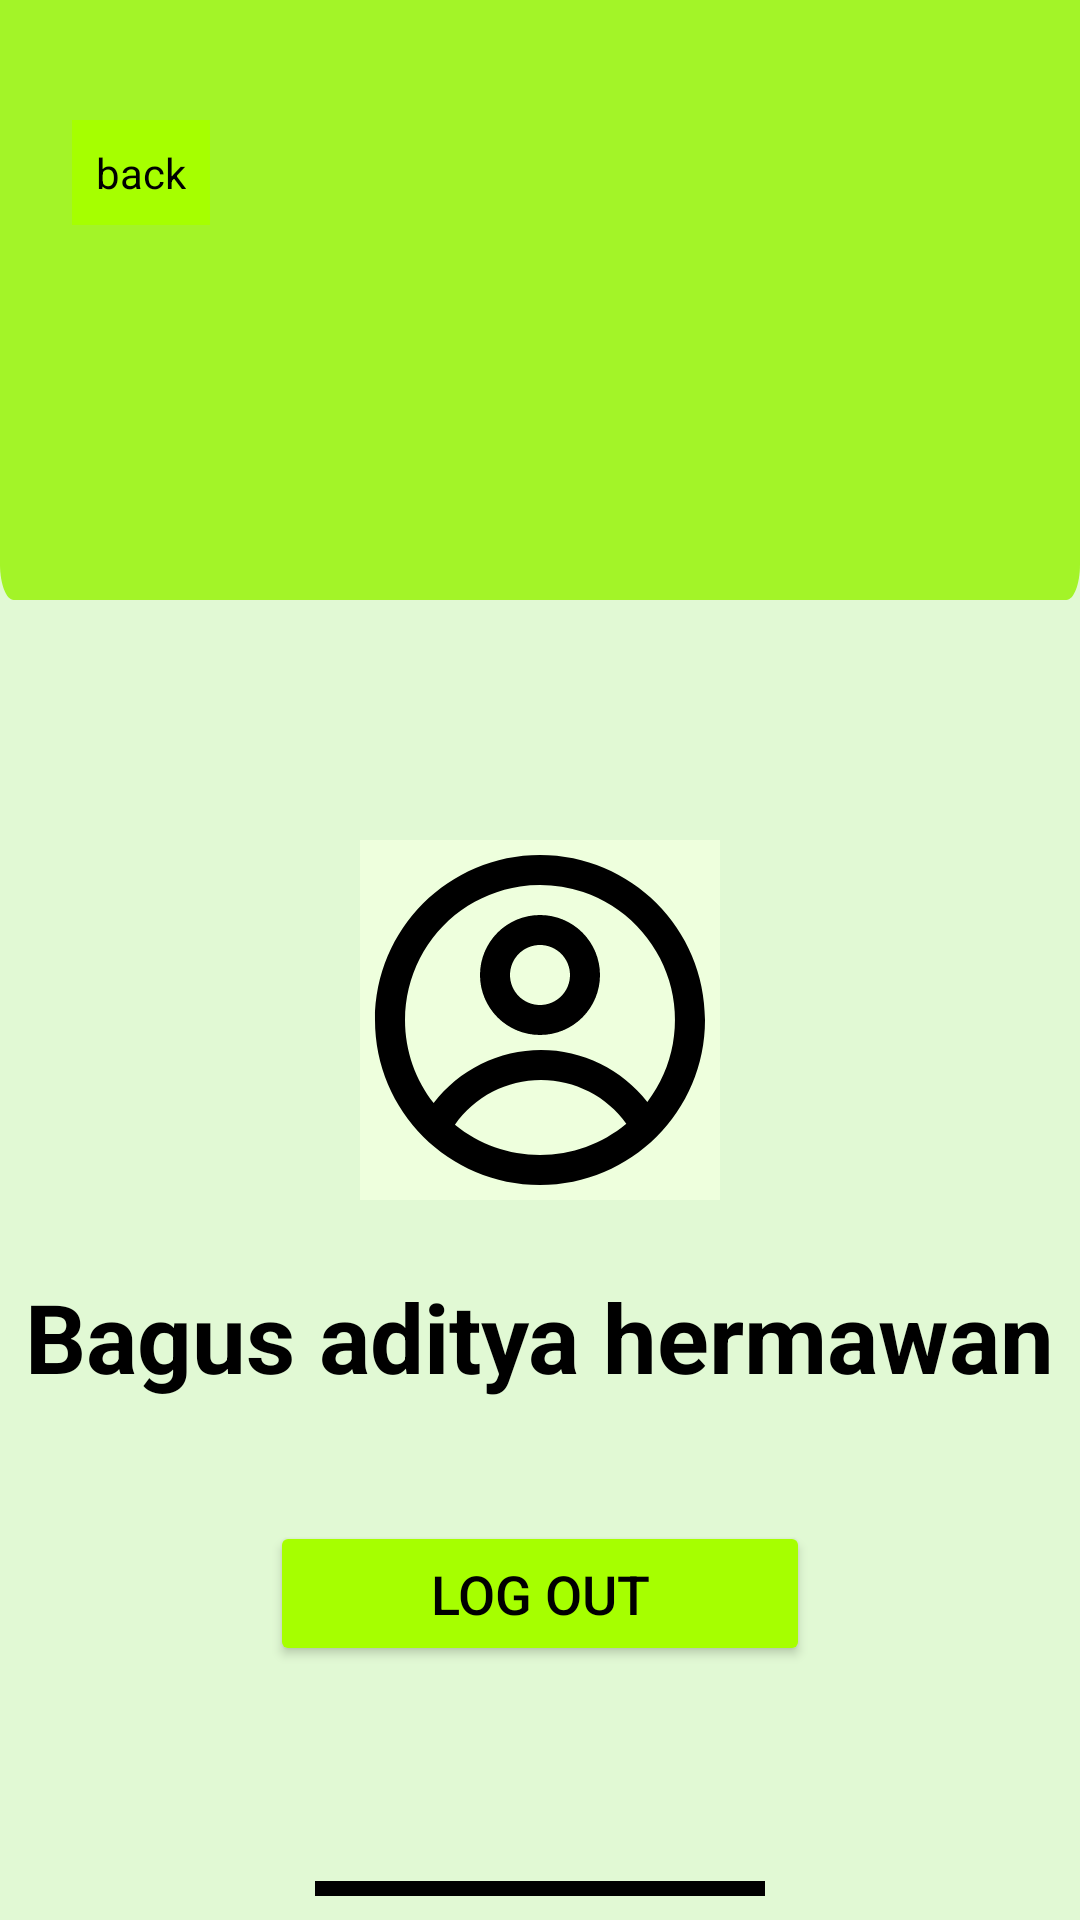

Icons on this 1080 × 1920 Android screen, each with the point to tap as point (x, y):
Ikon Profil: point (540, 1020)
